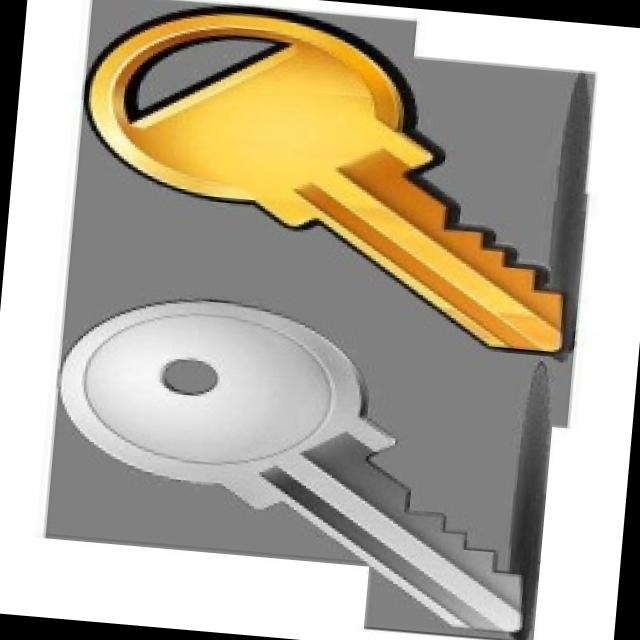anahtar: (36, 0, 595, 640)
